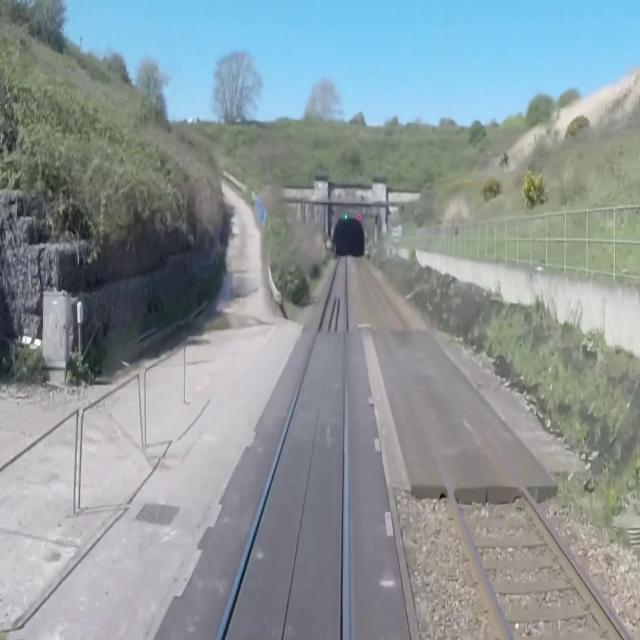rail-track: (353, 252, 623, 639), (220, 251, 346, 639)
